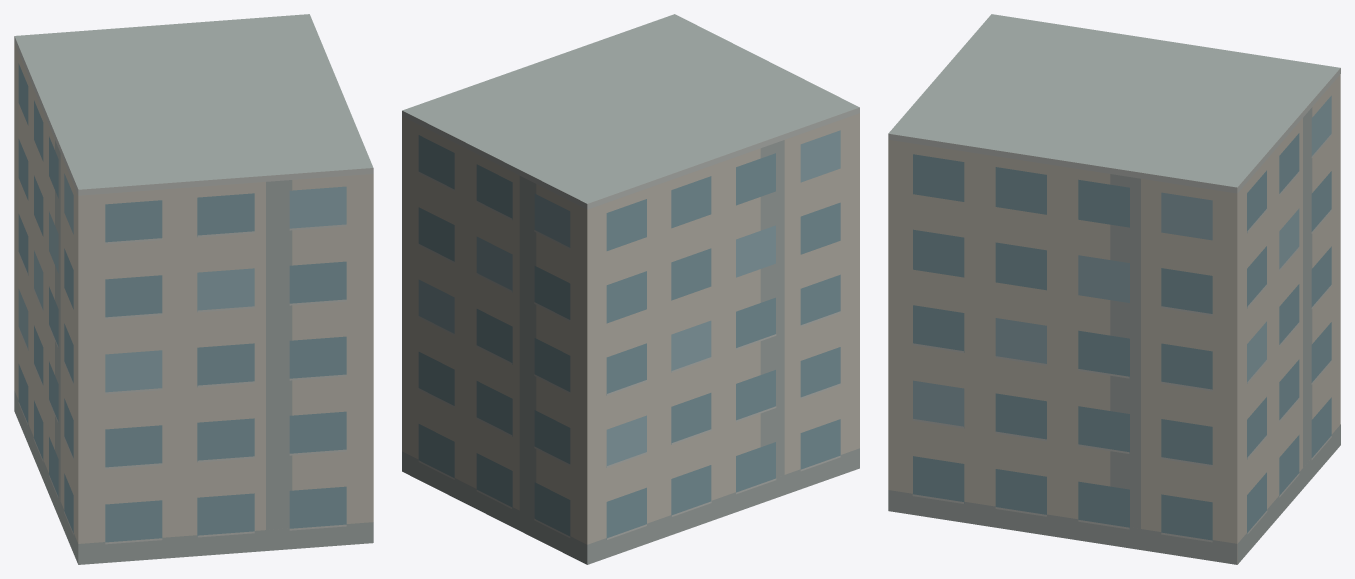
Rendered from residential-054f2e72-502d-4865-b0ae-22dc07fc9116.glb.
3 renders of one model, left to right at view 1: azimuth 30°, elevation 25°; view 2: azimuth 150°, elevation 25°; view 3: azimuth 270°, elevation 25°, orthographic. The views are drawn at different scales.
Parts seen in each view (by area): view 1: residential-054f2e72-502d-4865-b0ae-22dc07fc9116.tmp; view 2: residential-054f2e72-502d-4865-b0ae-22dc07fc9116.tmp; view 3: residential-054f2e72-502d-4865-b0ae-22dc07fc9116.tmp.
Part boxes in pixels (<box>): residential-054f2e72-502d-4865-b0ae-22dc07fc9116.tmp: <box>14,14,373,564</box>; residential-054f2e72-502d-4865-b0ae-22dc07fc9116.tmp: <box>402,14,859,564</box>; residential-054f2e72-502d-4865-b0ae-22dc07fc9116.tmp: <box>888,14,1340,564</box>.
Size of the model in its own units: 15.05 by 15.25 by 16.59.
